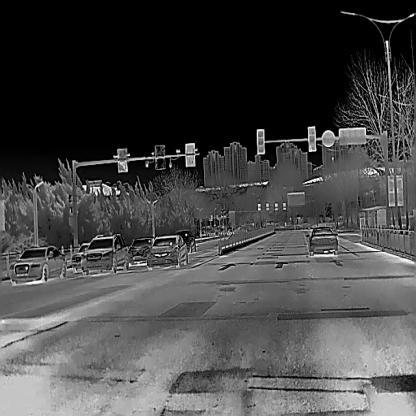car: (8, 244, 68, 284), (80, 232, 129, 274), (143, 234, 189, 268), (306, 224, 338, 255), (125, 236, 156, 264), (70, 241, 90, 273), (175, 228, 196, 251)
